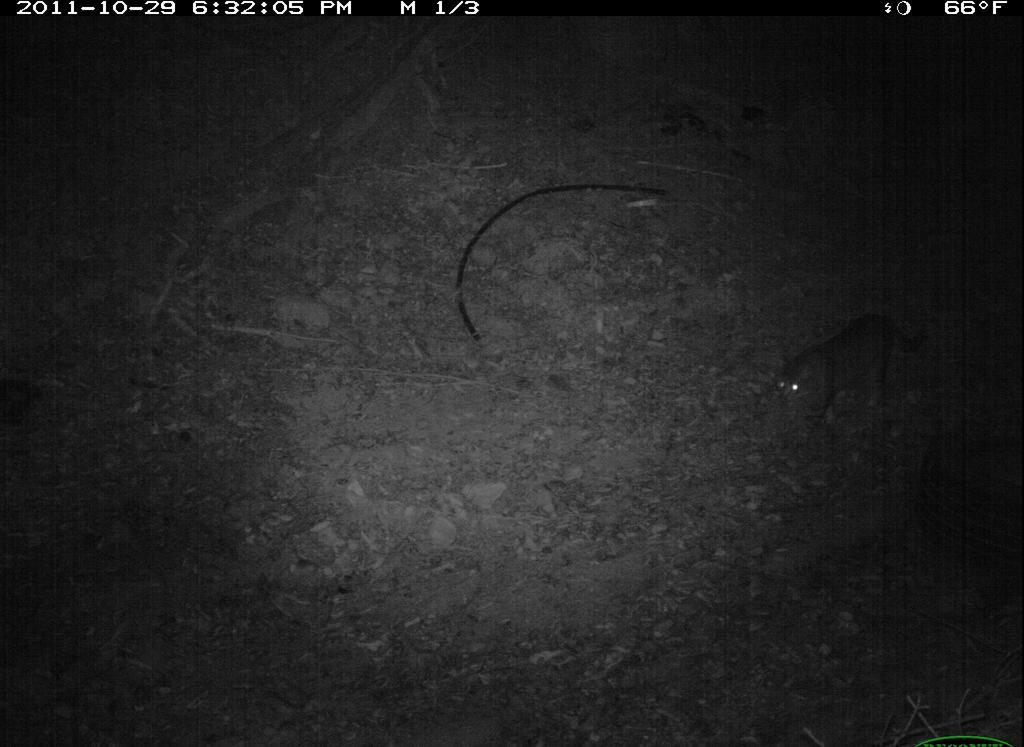cat: (769, 308, 937, 453)
